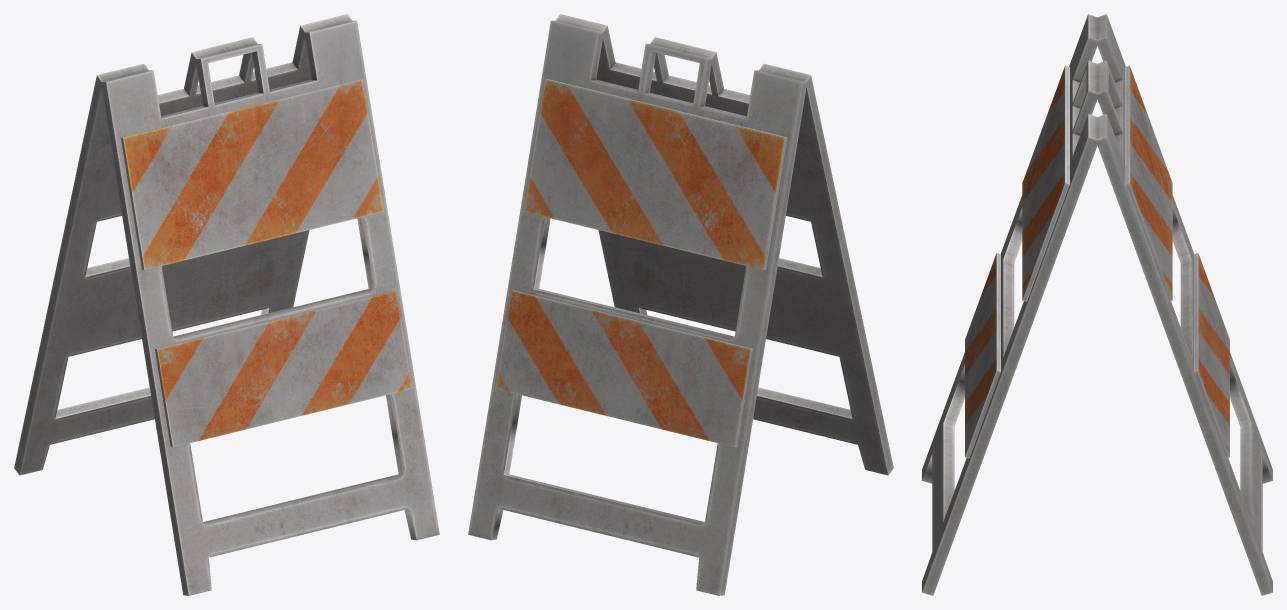
The model's file is Traffic_Barrier_2.glb.
3 renders of one model, left to right at view 1: azimuth 30°, elevation 25°; view 2: azimuth 150°, elevation 25°; view 3: azimuth 270°, elevation 25°, orthographic.
Visible parts, largest first — view 1: Traffic_Barrier_2__LOD2; view 2: Traffic_Barrier_2__LOD2; view 3: Traffic_Barrier_2__LOD2.
Part boxes in pixels (<box>): Traffic_Barrier_2__LOD2: <box>14,14,439,595</box>; Traffic_Barrier_2__LOD2: <box>468,14,893,595</box>; Traffic_Barrier_2__LOD2: <box>922,14,1272,595</box>.
Size of the model in its own units: 0.4885 by 0.8493 by 0.5886.
1 material, 1 textured.
